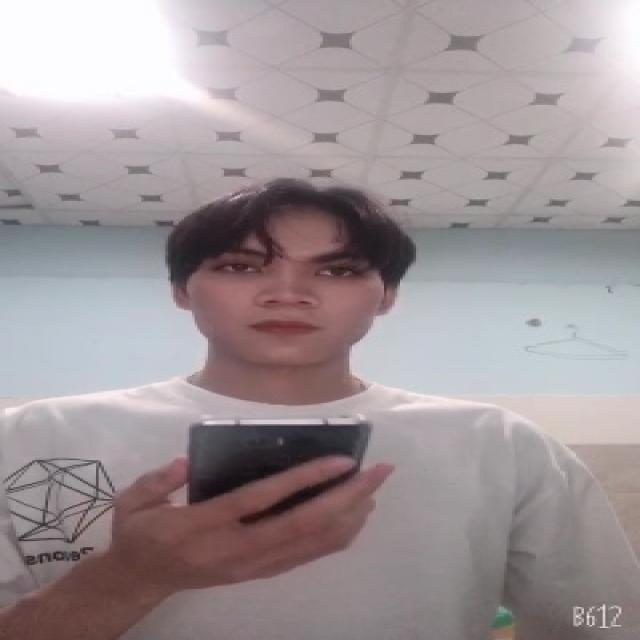Phone: (184, 411, 376, 516)
